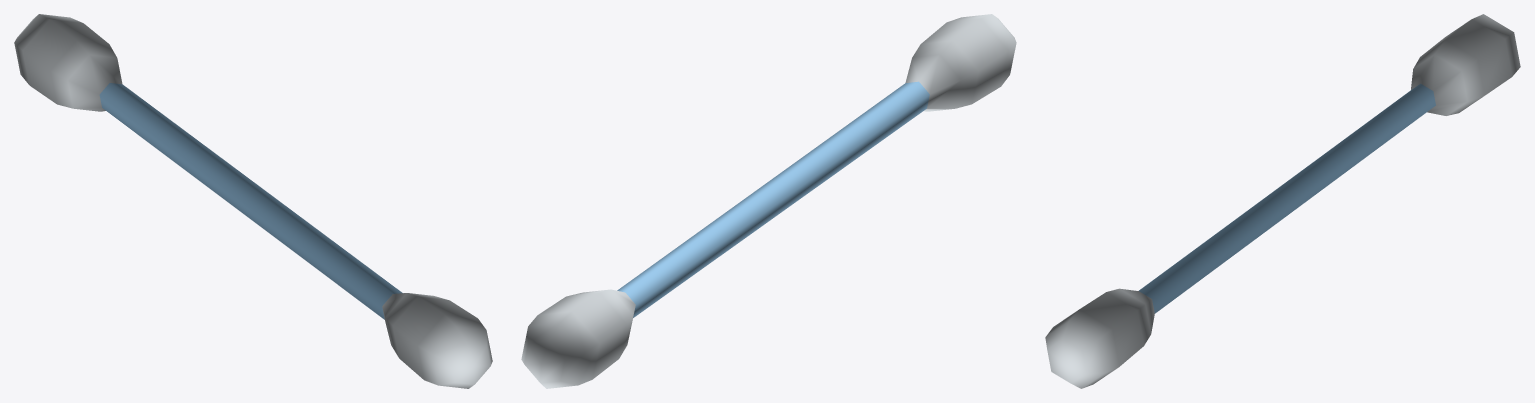
Rendered from coton.fbx.
3 renders of one model, left to right at view 1: azimuth 30°, elevation 25°; view 2: azimuth 150°, elevation 25°; view 3: azimuth 330°, elevation 25°, orthographic. The views are drawn at different scales.
Visible parts, largest first — view 1: Cosme1__M_Cnsw_58_SinkSet_Obj_Design_A_soft; view 2: Cosme1__M_Cnsw_58_SinkSet_Obj_Design_A_soft; view 3: Cosme1__M_Cnsw_58_SinkSet_Obj_Design_A_soft.
Boxes of the visible parts, x1,y1,x2,y2 form: Cosme1__M_Cnsw_58_SinkSet_Obj_Design_A_soft: (14,14,492,388); Cosme1__M_Cnsw_58_SinkSet_Obj_Design_A_soft: (521,14,1016,388); Cosme1__M_Cnsw_58_SinkSet_Obj_Design_A_soft: (1045,14,1520,388).
Bounding box in the file's own units: 199 × 213 × 2196.
